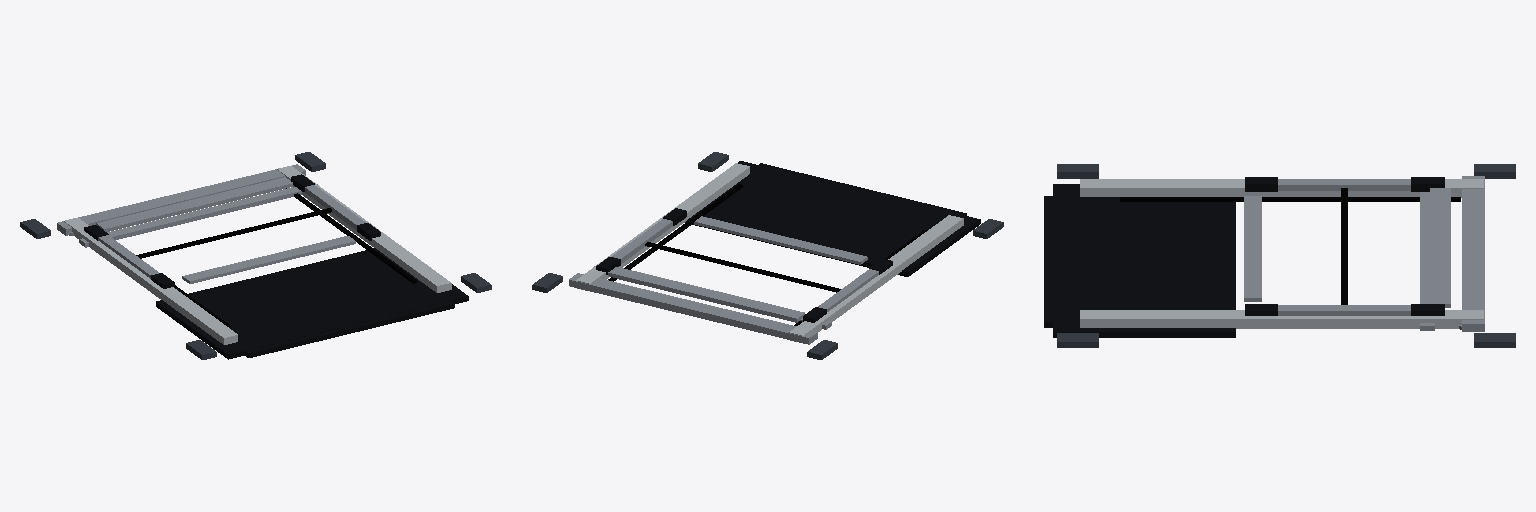
robot.urdf — car_sunroof_cassette:
<robot name="car_sunroof_cassette">
  <material name="painted_metal">
    <color rgba="0.25 0.27 0.3 1" />
    </material>
  <material name="brushed_aluminum">
    <color rgba="0.69 0.71 0.73 1" />
    </material>
  <material name="black_polymer">
    <color rgba="0.08 0.09 0.1 1" />
    </material>
  <material name="rubber_seal">
    <color rgba="0.03 0.03 0.03 1" />
    </material>
  <material name="tinted_glass">
    <color rgba="0.18 0.26 0.3 0.45" />
    </material>
  <material name="satin_steel">
    <color rgba="0.56 0.58 0.61 1" />
    </material>
  <link name="cassette_frame">
    <inertial>
      <origin xyz="0 0 -0.01" rpy="0 0 0" />
      <mass value="13.5" />
      <inertia ixx="1.59525" ixy="0" ixz="0" iyy="1.19925" iyz="0" izz="2.7369" />
      </inertial>
    <visual name="roof_frame_ring">
      <geometry>
        <mesh filename="assets/meshes/sunroof_frame_ring.obj" />
        </geometry>
      <material name="painted_metal">
        <color rgba="0.25 0.27 0.3 1" />
        </material>
      </visual>
    <visual name="left_guide_rail">
      <origin xyz="-0.372 -0.01 0.013" rpy="0 0 0" />
      <geometry>
        <box size="0.05 0.97 0.026" />
        </geometry>
      <material name="brushed_aluminum">
        <color rgba="0.69 0.71 0.73 1" />
        </material>
      </visual>
    <visual name="left_track_insert">
      <origin xyz="-0.372 -0.01 0.01" rpy="0 0 0" />
      <geometry>
        <box size="0.028 0.92 0.012" />
        </geometry>
      <material name="black_polymer">
        <color rgba="0.08 0.09 0.1 1" />
        </material>
      </visual>
    <visual name="left_opening_seal">
      <origin xyz="-0.325 0.01 0.006" rpy="0 0 0" />
      <geometry>
        <box size="0.014 0.82 0.008" />
        </geometry>
      <material name="rubber_seal">
        <color rgba="0.03 0.03 0.03 1" />
        </material>
      </visual>
    <visual name="left_front_pulley">
      <origin xyz="-0.392 0.432 0.005" rpy="0 0 0" />
      <geometry>
        <cylinder radius="0.018" length="0.01" />
        </geometry>
      <material name="satin_steel">
        <color rgba="0.56 0.58 0.61 1" />
        </material>
      </visual>
    <visual name="left_rear_pulley">
      <origin xyz="-0.338 -0.49 -0.026" rpy="0 0 0" />
      <geometry>
        <cylinder radius="0.022" length="0.012" />
        </geometry>
      <material name="satin_steel">
        <color rgba="0.56 0.58 0.61 1" />
        </material>
      </visual>
    <visual name="left_front_mount_bracket">
      <origin xyz="-0.48 0.5 0.008" rpy="0 0 0" />
      <geometry>
        <box size="0.05 0.1 0.018" />
        </geometry>
      <material name="painted_metal">
        <color rgba="0.25 0.27 0.3 1" />
        </material>
      </visual>
    <visual name="left_rear_mount_bracket">
      <origin xyz="-0.48 -0.5 0.008" rpy="0 0 0" />
      <geometry>
        <box size="0.05 0.1 0.018" />
        </geometry>
      <material name="painted_metal">
        <color rgba="0.25 0.27 0.3 1" />
        </material>
      </visual>
    <visual name="right_guide_rail">
      <origin xyz="0.372 -0.01 0.013" rpy="0 0 0" />
      <geometry>
        <box size="0.05 0.97 0.026" />
        </geometry>
      <material name="brushed_aluminum">
        <color rgba="0.69 0.71 0.73 1" />
        </material>
      </visual>
    <visual name="right_track_insert">
      <origin xyz="0.372 -0.01 0.01" rpy="0 0 0" />
      <geometry>
        <box size="0.028 0.92 0.012" />
        </geometry>
      <material name="black_polymer">
        <color rgba="0.08 0.09 0.1 1" />
        </material>
      </visual>
    <visual name="right_opening_seal">
      <origin xyz="0.325 0.01 0.006" rpy="0 0 0" />
      <geometry>
        <box size="0.014 0.82 0.008" />
        </geometry>
      <material name="rubber_seal">
        <color rgba="0.03 0.03 0.03 1" />
        </material>
      </visual>
    <visual name="right_front_pulley">
      <origin xyz="0.392 0.432 0.005" rpy="0 0 0" />
      <geometry>
        <cylinder radius="0.018" length="0.01" />
        </geometry>
      <material name="satin_steel">
        <color rgba="0.56 0.58 0.61 1" />
        </material>
      </visual>
    <visual name="right_rear_pulley">
      <origin xyz="0.338 -0.49 -0.026" rpy="0 0 0" />
      <geometry>
        <cylinder radius="0.022" length="0.012" />
        </geometry>
      <material name="satin_steel">
        <color rgba="0.56 0.58 0.61 1" />
        </material>
      </visual>
    <visual name="right_front_mount_bracket">
      <origin xyz="0.48 0.5 0.008" rpy="0 0 0" />
      <geometry>
        <box size="0.05 0.1 0.018" />
        </geometry>
      <material name="painted_metal">
        <color rgba="0.25 0.27 0.3 1" />
        </material>
      </visual>
    <visual name="right_rear_mount_bracket">
      <origin xyz="0.48 -0.5 0.008" rpy="0 0 0" />
      <geometry>
        <box size="0.05 0.1 0.018" />
        </geometry>
      <material name="painted_metal">
        <color rgba="0.25 0.27 0.3 1" />
        </material>
      </visual>
    <visual name="front_header_beam">
      <origin xyz="0 0.45 0.013" rpy="0 0 0" />
      <geometry>
        <box size="0.84 0.055 0.022" />
        </geometry>
      <material name="satin_steel">
        <color rgba="0.56 0.58 0.61 1" />
        </material>
      </visual>
    <visual name="front_cross_tube">
      <origin xyz="0 0.34 0.008" rpy="0 0 0" />
      <geometry>
        <box size="0.82 0.036 0.014" />
        </geometry>
      <material name="satin_steel">
        <color rgba="0.56 0.58 0.61 1" />
        </material>
      </visual>
    <visual name="rear_storage_pan">
      <origin xyz="0 -0.34 -0.006" rpy="0 0 0" />
      <geometry>
        <box size="0.84 0.44 0.016" />
        </geometry>
      <material name="black_polymer">
        <color rgba="0.08 0.09 0.1 1" />
        </material>
      </visual>
    <visual name="rear_drain_trough">
      <origin xyz="0 -0.54 -0.008" rpy="0 0 0" />
      <geometry>
        <box size="0.72 0.08 0.016" />
        </geometry>
      <material name="black_polymer">
        <color rgba="0.08 0.09 0.1 1" />
        </material>
      </visual>
    <visual name="left_drive_cable">
      <geometry>
        <mesh filename="assets/meshes/sunroof_left_cable.obj" />
        </geometry>
      <material name="black_polymer">
        <color rgba="0.08 0.09 0.1 1" />
        </material>
      </visual>
    <visual name="right_drive_cable">
      <geometry>
        <mesh filename="assets/meshes/sunroof_right_cable.obj" />
        </geometry>
      <material name="black_polymer">
        <color rgba="0.08 0.09 0.1 1" />
        </material>
      </visual>
    </link>
  <link name="glass_panel">
    <inertial>
      <origin xyz="0.36 0 0.02" rpy="0 0 0" />
      <mass value="5.8" />
      <inertia ixx="0.164333" ixy="0" ixz="0" iyy="0.2958" iyz="0" izz="0.456653" />
      </inertial>
    <visual name="glass_lite">
      <origin xyz="0.36 0 0.024" rpy="0 0 0" />
      <geometry>
        <mesh filename="assets/meshes/sunroof_glass_panel.obj" />
        </geometry>
      <material name="tinted_glass">
        <color rgba="0.18 0.26 0.3 0.45" />
        </material>
      </visual>
    <visual name="ceramic_frit_band">
      <origin xyz="0.36 0 0.0225" rpy="0 0 0" />
      <geometry>
        <mesh filename="assets/meshes/sunroof_glass_frit.obj" />
        </geometry>
      <material name="black_polymer">
        <color rgba="0.08 0.09 0.1 1" />
        </material>
      </visual>
    <visual name="left_carrier_rail">
      <origin xyz="0 0 0.014" rpy="0 0 0" />
      <geometry>
        <box size="0.034 0.44 0.018" />
        </geometry>
      <material name="satin_steel">
        <color rgba="0.56 0.58 0.61 1" />
        </material>
      </visual>
    <visual name="right_carrier_rail">
      <origin xyz="0.72 0 0.014" rpy="0 0 0" />
      <geometry>
        <box size="0.034 0.44 0.018" />
        </geometry>
      <material name="satin_steel">
        <color rgba="0.56 0.58 0.61 1" />
        </material>
      </visual>
    <visual name="front_left_shoe">
      <origin xyz="0 0.2 0.015" rpy="0 0 0" />
      <geometry>
        <box size="0.04 0.08 0.02" />
        </geometry>
      <material name="black_polymer">
        <color rgba="0.08 0.09 0.1 1" />
        </material>
      </visual>
    <visual name="rear_left_shoe">
      <origin xyz="0 -0.2 0.015" rpy="0 0 0" />
      <geometry>
        <box size="0.04 0.08 0.02" />
        </geometry>
      <material name="black_polymer">
        <color rgba="0.08 0.09 0.1 1" />
        </material>
      </visual>
    <visual name="front_right_shoe">
      <origin xyz="0.72 0.2 0.015" rpy="0 0 0" />
      <geometry>
        <box size="0.04 0.08 0.02" />
        </geometry>
      <material name="black_polymer">
        <color rgba="0.08 0.09 0.1 1" />
        </material>
      </visual>
    <visual name="rear_right_shoe">
      <origin xyz="0.72 -0.2 0.015" rpy="0 0 0" />
      <geometry>
        <box size="0.04 0.08 0.02" />
        </geometry>
      <material name="black_polymer">
        <color rgba="0.08 0.09 0.1 1" />
        </material>
      </visual>
    <visual name="front_reinforcement_bow">
      <origin xyz="0.36 0.23 0.015" rpy="0 0 0" />
      <geometry>
        <box size="0.66 0.05 0.012" />
        </geometry>
      <material name="satin_steel">
        <color rgba="0.56 0.58 0.61 1" />
        </material>
      </visual>
    <visual name="rear_reinforcement_bow">
      <origin xyz="0.36 -0.22 0.013" rpy="0 0 0" />
      <geometry>
        <box size="0.58 0.045 0.01" />
        </geometry>
      <material name="satin_steel">
        <color rgba="0.56 0.58 0.61 1" />
        </material>
      </visual>
    <visual name="underside_center_seal">
      <origin xyz="0.36 0 0.011" rpy="0 0 0" />
      <geometry>
        <box size="0.7 0.015 0.008" />
        </geometry>
      <material name="rubber_seal">
        <color rgba="0.03 0.03 0.03 1" />
        </material>
      </visual>
    </link>
  <joint name="panel_slide" type="prismatic">
    <origin xyz="-0.36 0.14 0.014" rpy="0 0 0" />
    <parent link="cassette_frame" />
    <child link="glass_panel" />
    <axis xyz="0 -1 0" />
    <limit effort="300" velocity="0.6" lower="0" upper="0.34" />
    </joint>
  </robot>

--- Render facts (derived) ---
Views: 3 orthographic renders of the robot side by side, from view 1: azimuth 30°, elevation 25°; view 2: azimuth 150°, elevation 25°; view 3: azimuth 270°, elevation 25°.
Robot: car_sunroof_cassette — 2 links, 1 joints (1 prismatic); root link cassette_frame; default pose: every joint at zero.
Links seen in each view (by area): view 1: cassette_frame, glass_panel; view 2: cassette_frame, glass_panel; view 3: cassette_frame, glass_panel.
Link boxes in pixels (x1,y1,x2,y2): cassette_frame: (20,152,491,359); glass_panel: (84,174,380,288); cassette_frame: (532,152,1003,359); glass_panel: (596,208,892,322); cassette_frame: (1044,164,1515,347); glass_panel: (1244,177,1450,315).
Size in the robot's own frame: 1.01 by 1.13 by 0.071 metres.
Meshes: 5 distinct files referenced, 0 mesh visuals loaded (none loaded); not drawn: 5 (reference not matched to a file when rendering).
